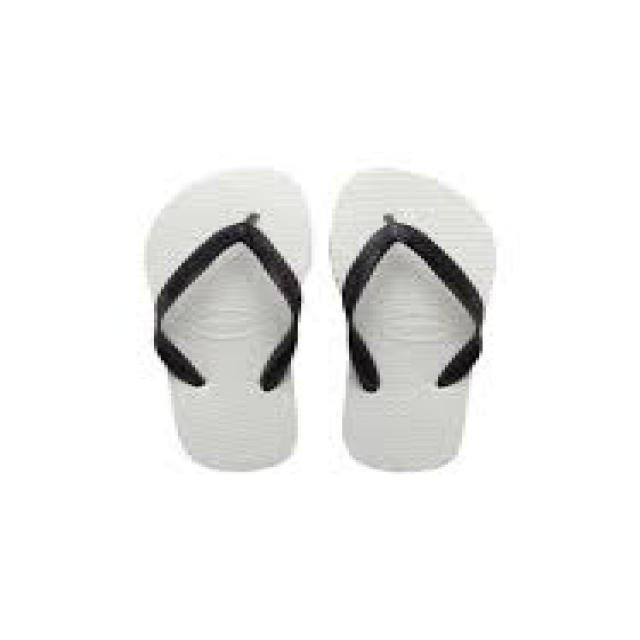Sandals: (105, 121, 560, 538)
